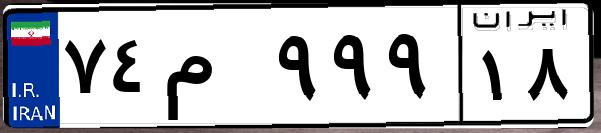1: (475, 38, 525, 113)
4: (110, 28, 158, 98)
7: (57, 26, 110, 100)
8: (525, 38, 570, 115)
9: (270, 28, 330, 110), (385, 28, 445, 110), (330, 28, 385, 110)
م: (158, 20, 270, 120)
